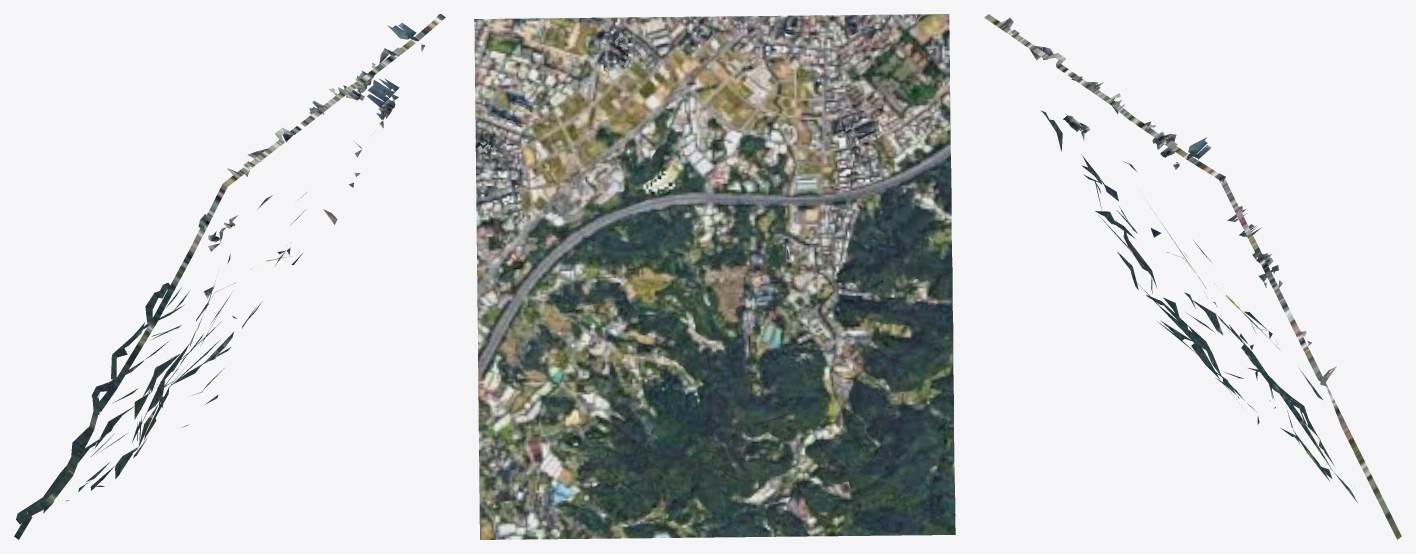
The picture shows the model from 3 angles, left to right: view 1: azimuth 30°, elevation 25°; view 2: azimuth 150°, elevation 25°; view 3: azimuth 270°, elevation 25°; orthographic projection. The views are drawn at different scales.
Size of the model in its own units: 2511 by 2275 by 2059.
1 material, 1 textured.
